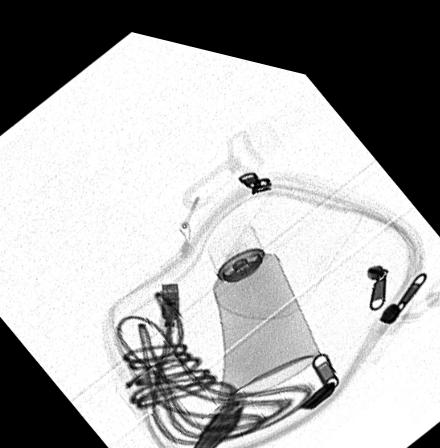Sprayer: (204, 211, 320, 389)
